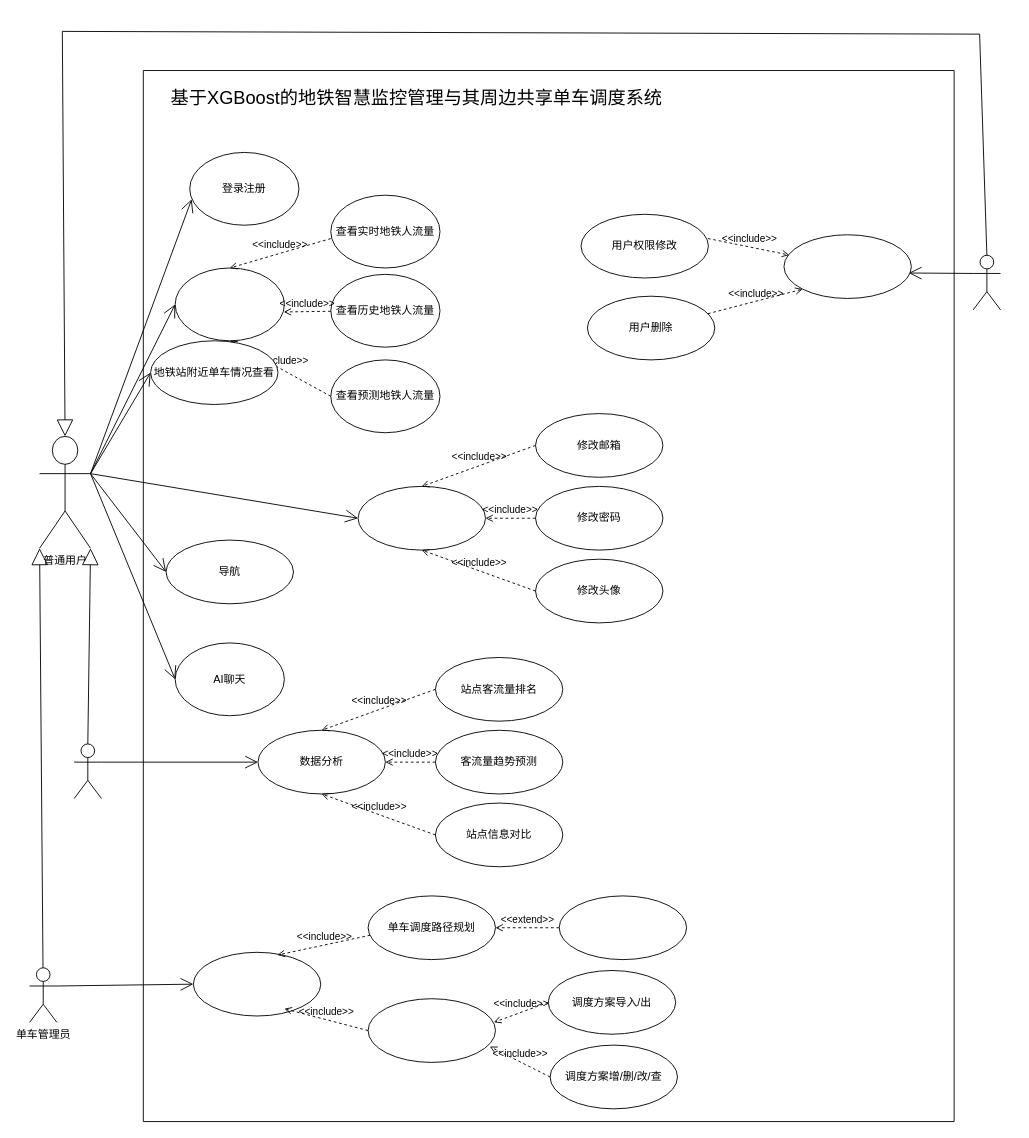
Image size: 1029x1138. Some labels were removed from this diagram. The shapes that lost their labels are listed below. From the top down, each one's centre as x and y in pixels, then its label:
At (847,266): "用户管理".
At (986,282): "超级管理员".
At (229,304): "查看地铁人流量".
At (421,517): "个人信息管理".
At (87,771): "地铁管理员".
At (622,927): "大模型路径规划与建议".
At (256,983): "单车调度".
At (431,1030): "调度方案管理".
